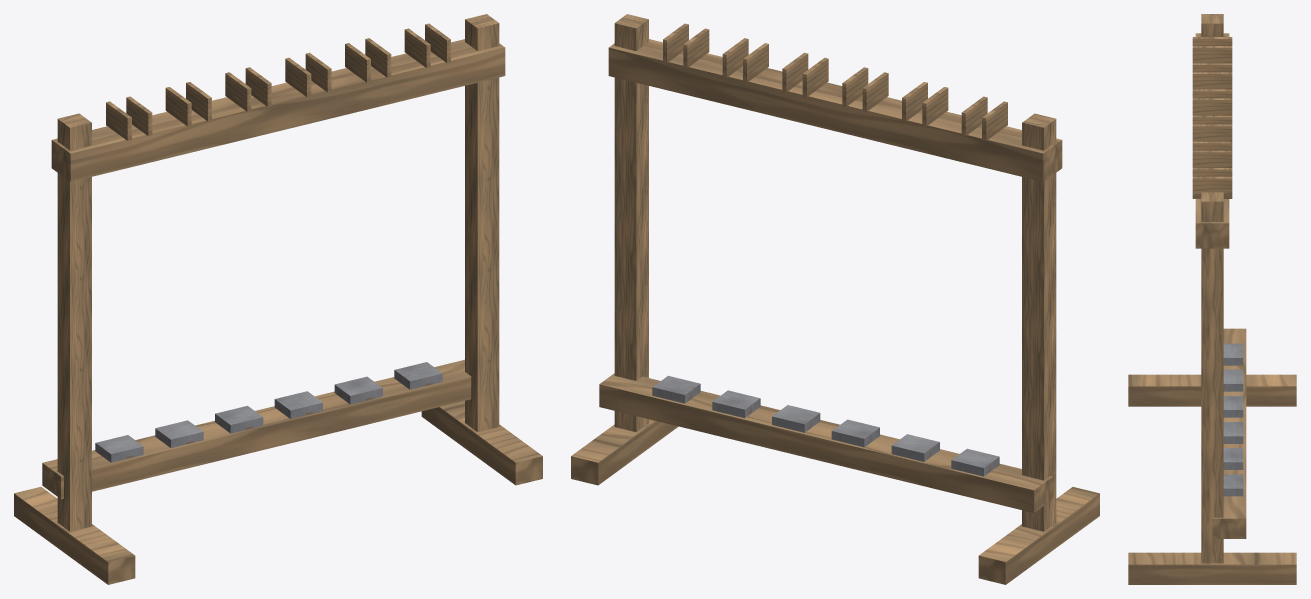
File: weapon_rack.glb
The picture shows the model from 3 angles, left to right: view 1: azimuth 30°, elevation 25°; view 2: azimuth 150°, elevation 25°; view 3: azimuth 270°, elevation 25°; orthographic projection. The views are drawn at different scales.
Visible parts, largest first — view 1: weapon_rack; view 2: weapon_rack; view 3: weapon_rack.
Boxes of the visible parts, x1=… form: weapon_rack: x1=14, y1=14, x2=542, y2=584; weapon_rack: x1=571, y1=14, x2=1099, y2=584; weapon_rack: x1=1128, y1=14, x2=1296, y2=584.
Bounding box in the file's own units: 1.6 × 1.5 × 0.6.
Materials: 2 (2 with a texture image).
